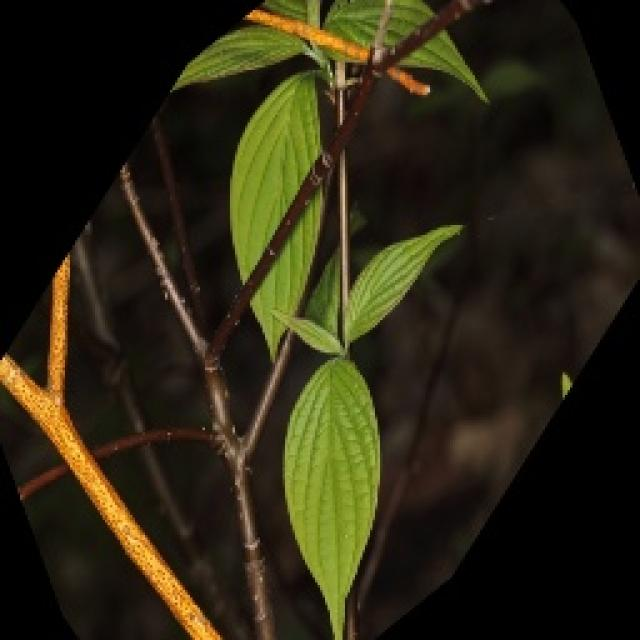Golden_canker: (19, 271, 222, 640), (240, 2, 432, 100)
